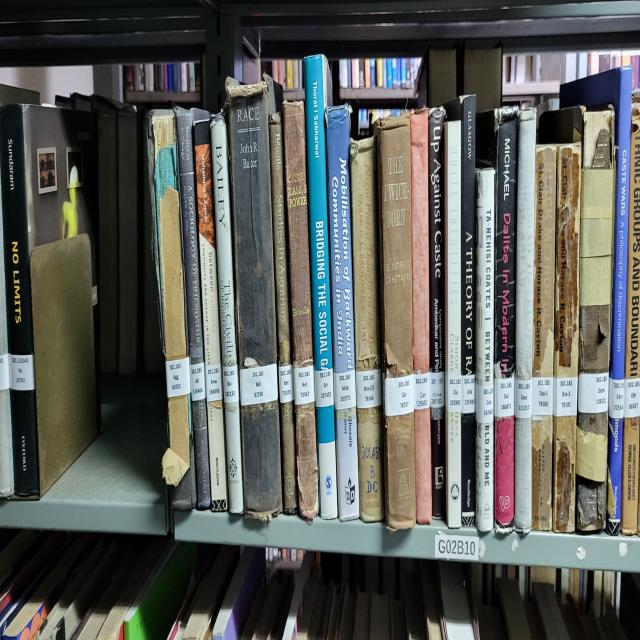Book: (560, 68, 631, 536), (226, 78, 282, 519), (476, 108, 519, 536), (376, 116, 416, 530), (305, 54, 338, 519), (284, 103, 319, 519), (326, 106, 360, 519), (175, 108, 210, 509), (194, 122, 229, 511), (210, 114, 244, 514), (350, 138, 385, 522), (445, 95, 476, 528), (578, 106, 615, 438), (269, 111, 298, 514), (552, 141, 581, 533), (514, 108, 536, 533), (159, 184, 190, 471), (410, 108, 431, 522), (621, 103, 640, 533), (475, 168, 495, 533), (429, 106, 445, 517), (445, 119, 461, 528), (532, 146, 556, 379), (576, 471, 605, 530)
Label: (240, 363, 278, 406), (384, 373, 414, 417), (578, 373, 609, 414), (356, 368, 382, 409), (166, 357, 191, 398), (554, 376, 578, 417), (334, 368, 356, 411), (531, 376, 554, 417), (294, 365, 315, 406), (494, 376, 515, 417), (315, 368, 334, 409), (475, 384, 494, 425), (515, 379, 532, 419), (222, 365, 239, 403), (414, 371, 430, 411), (609, 379, 625, 419), (205, 363, 222, 400), (446, 373, 461, 414), (624, 379, 640, 417), (190, 363, 206, 400), (461, 373, 475, 414), (279, 365, 294, 403), (430, 371, 445, 409)
